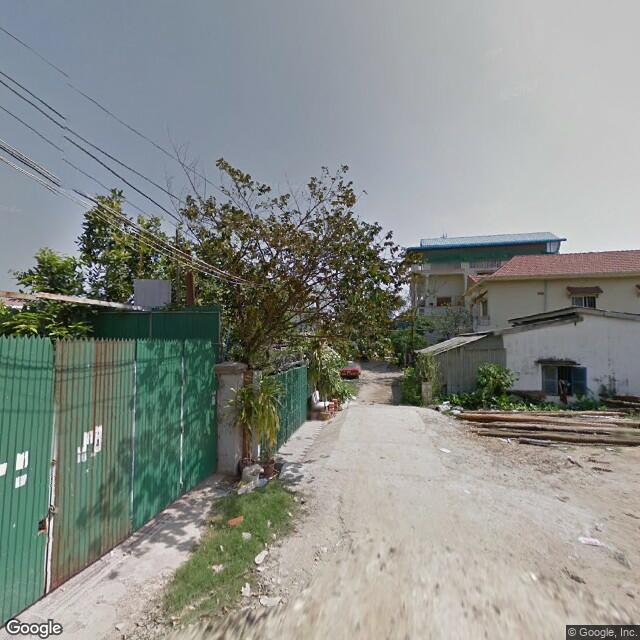litter: (237, 579, 288, 611), (572, 524, 605, 554), (252, 542, 269, 573)
